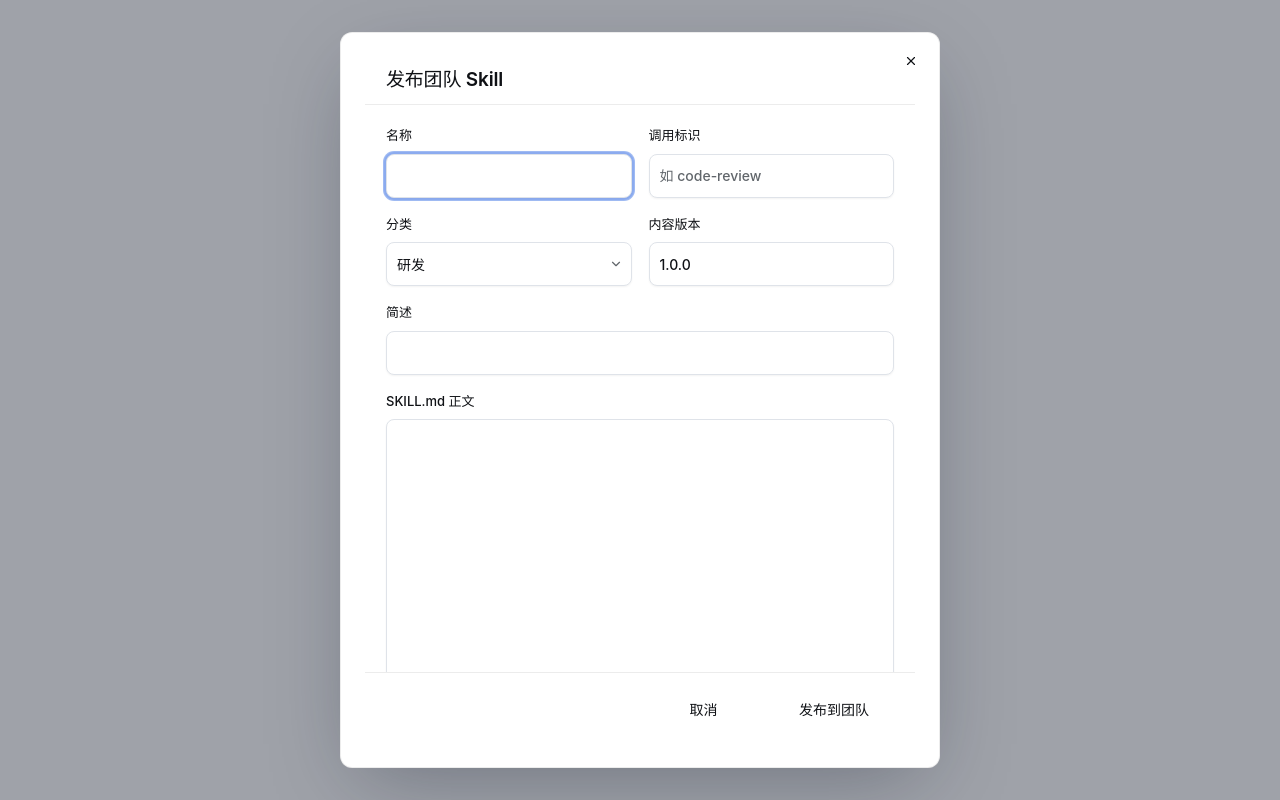
SkillForm › 缺少字段与非法标识时阻止提交并提示
Click the button "发布到团队" at (834, 709), box [774, 687, 894, 731]
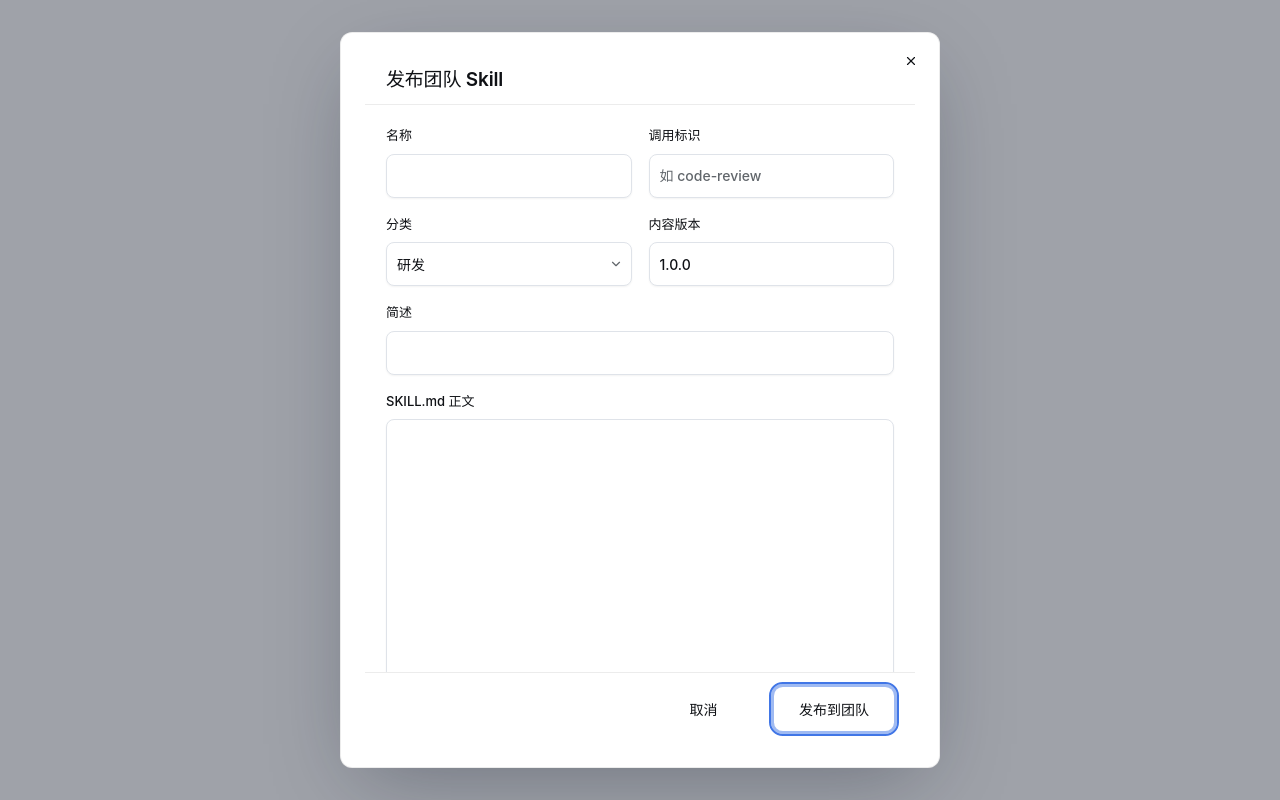
Type "代码评审" into the field labelled "名称" at (509, 176), box [386, 154, 632, 198]
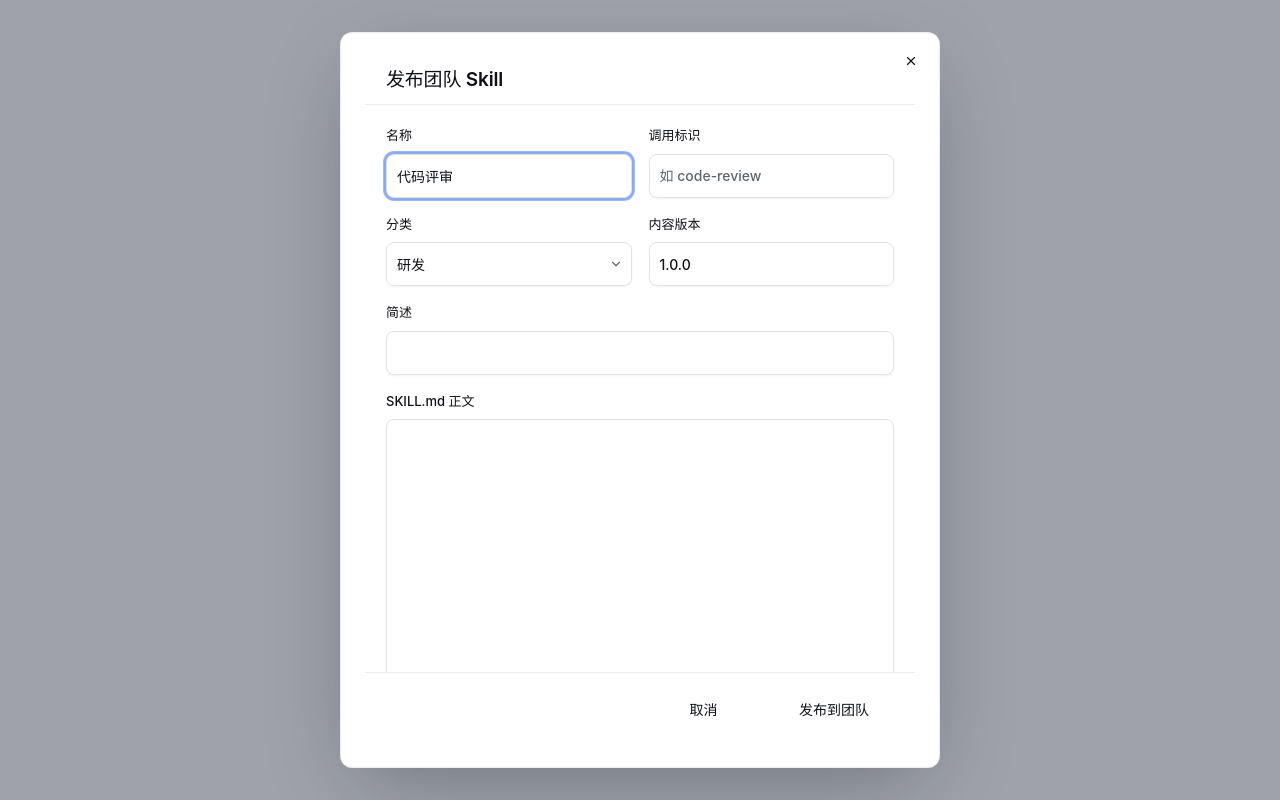
Type "Code Review" into the field labelled "调用标识" at (771, 176), box [648, 154, 894, 198]
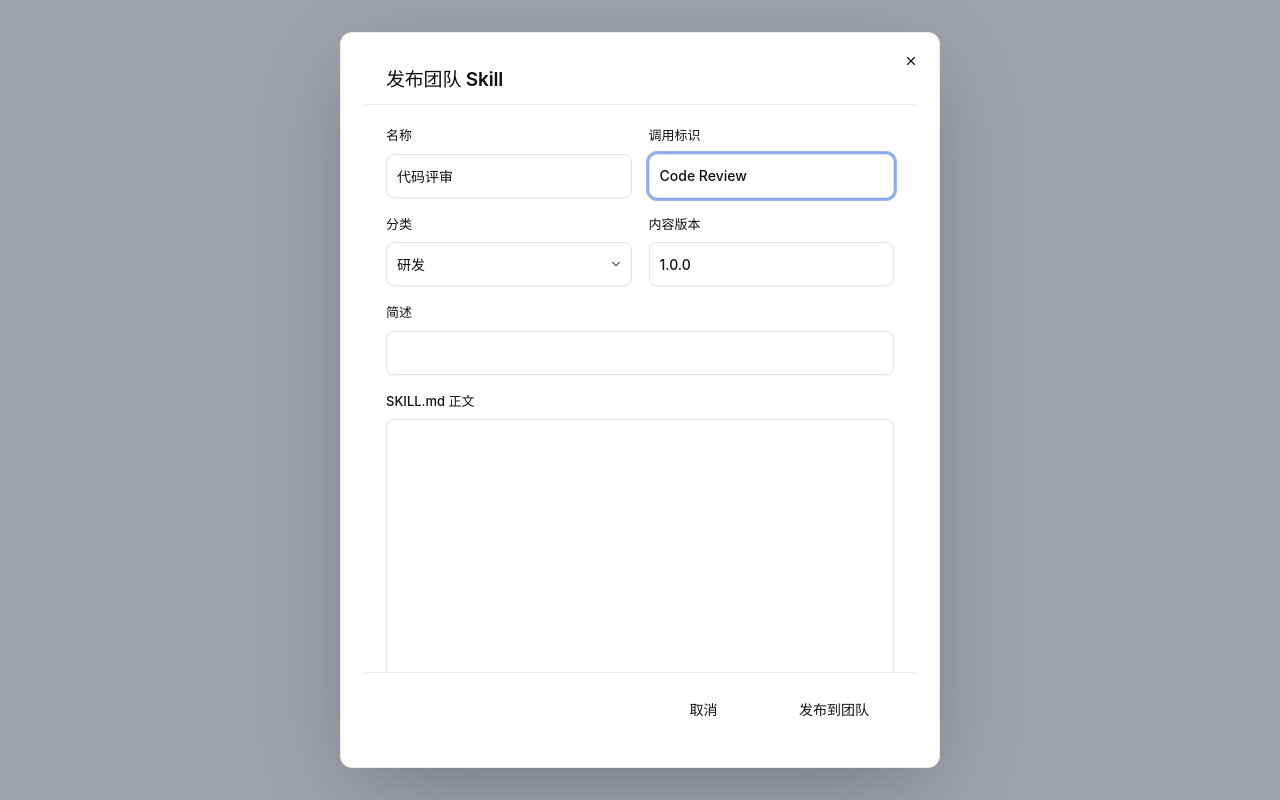
Type "简述" into the field labelled "简述" at (640, 352), box [386, 330, 894, 374]
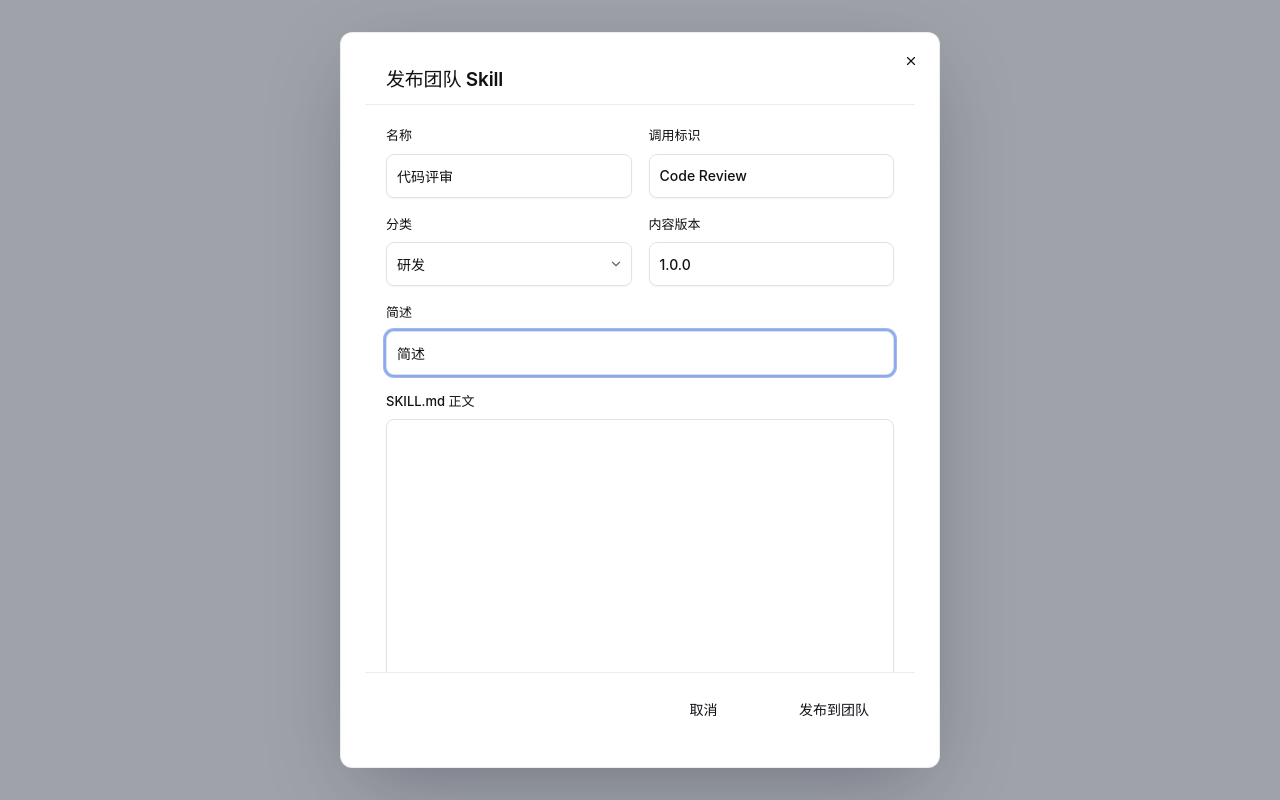
Type "指令内容" into the text box labelled "SKILL.md 正文" at (640, 556), box [386, 419, 894, 693]
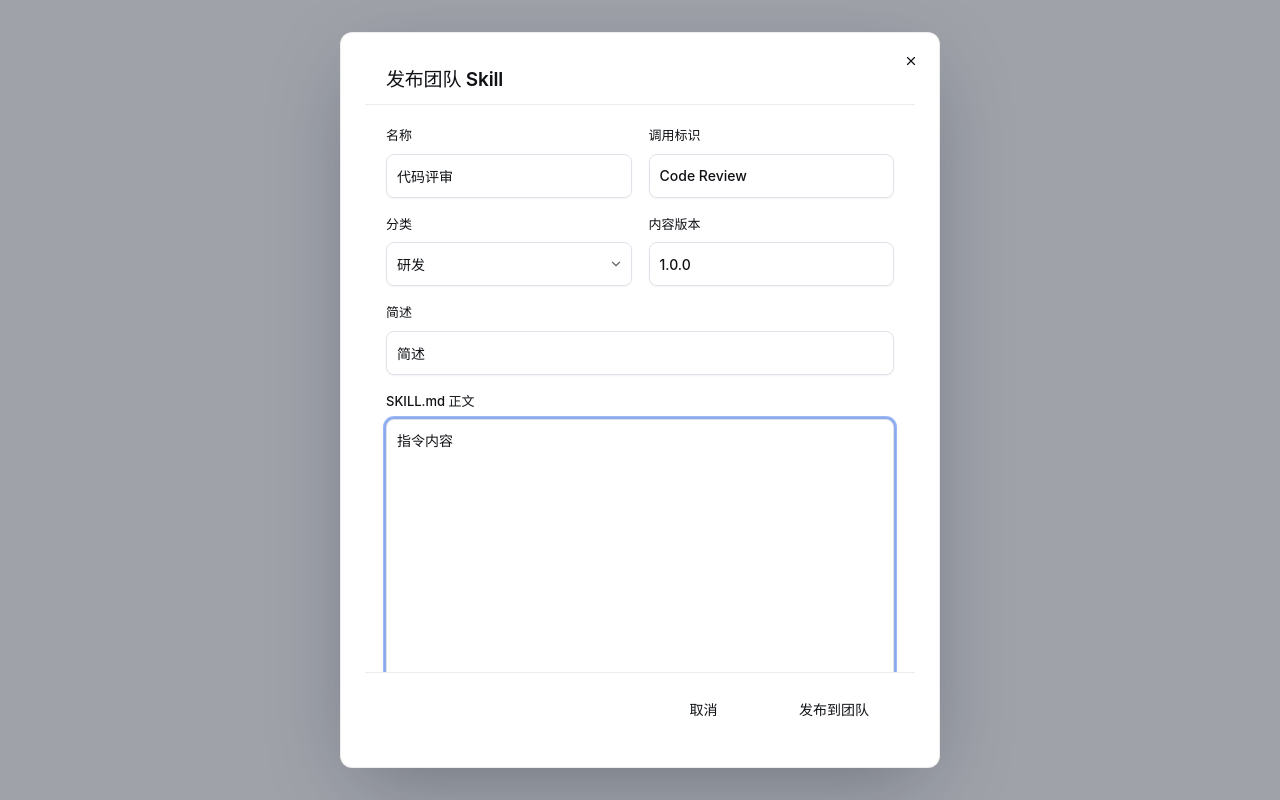
Click the button "发布到团队" at (834, 709), box [774, 687, 894, 731]
(page scrolled)
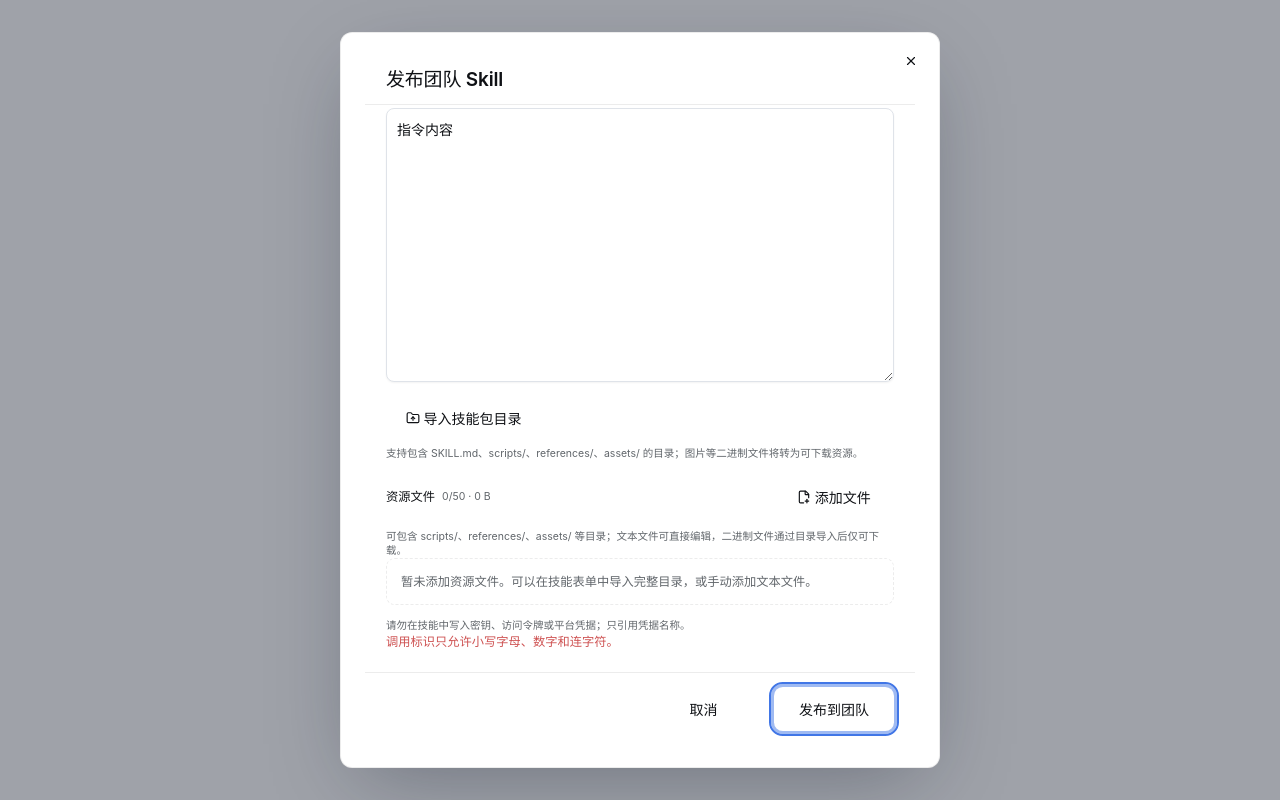
Now the message reads "调用标识只允许小写字母、数字和连字符。", box [386, 634, 619, 649]
